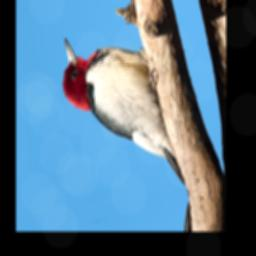Woodpecker: (53, 13, 186, 216)
